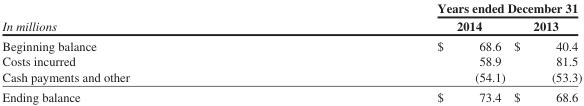table: (1, 0, 581, 103)
table column: (1, 0, 282, 103), (282, 0, 509, 103), (509, 0, 581, 103)
table column header: (1, 0, 581, 35)
table row: (1, 16, 581, 35), (1, 35, 581, 53), (1, 68, 581, 86), (1, 86, 581, 103), (1, 0, 581, 16), (1, 53, 581, 68)
table spanning cell: (1, 0, 282, 35), (282, 0, 581, 16)
